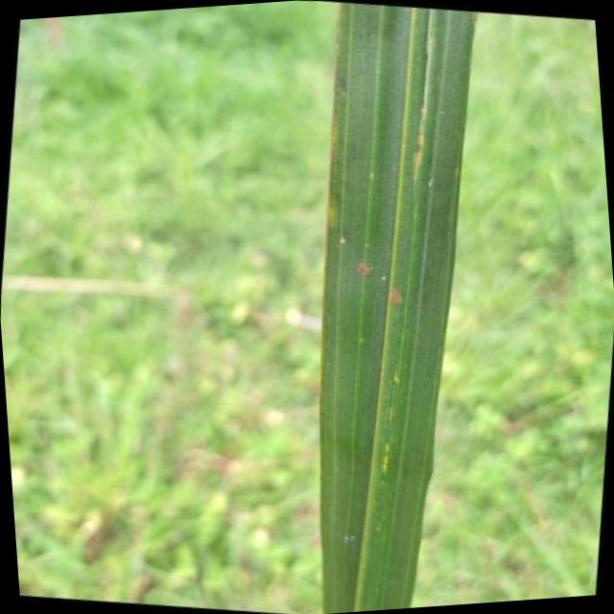Boron: (318, 0, 480, 614)
